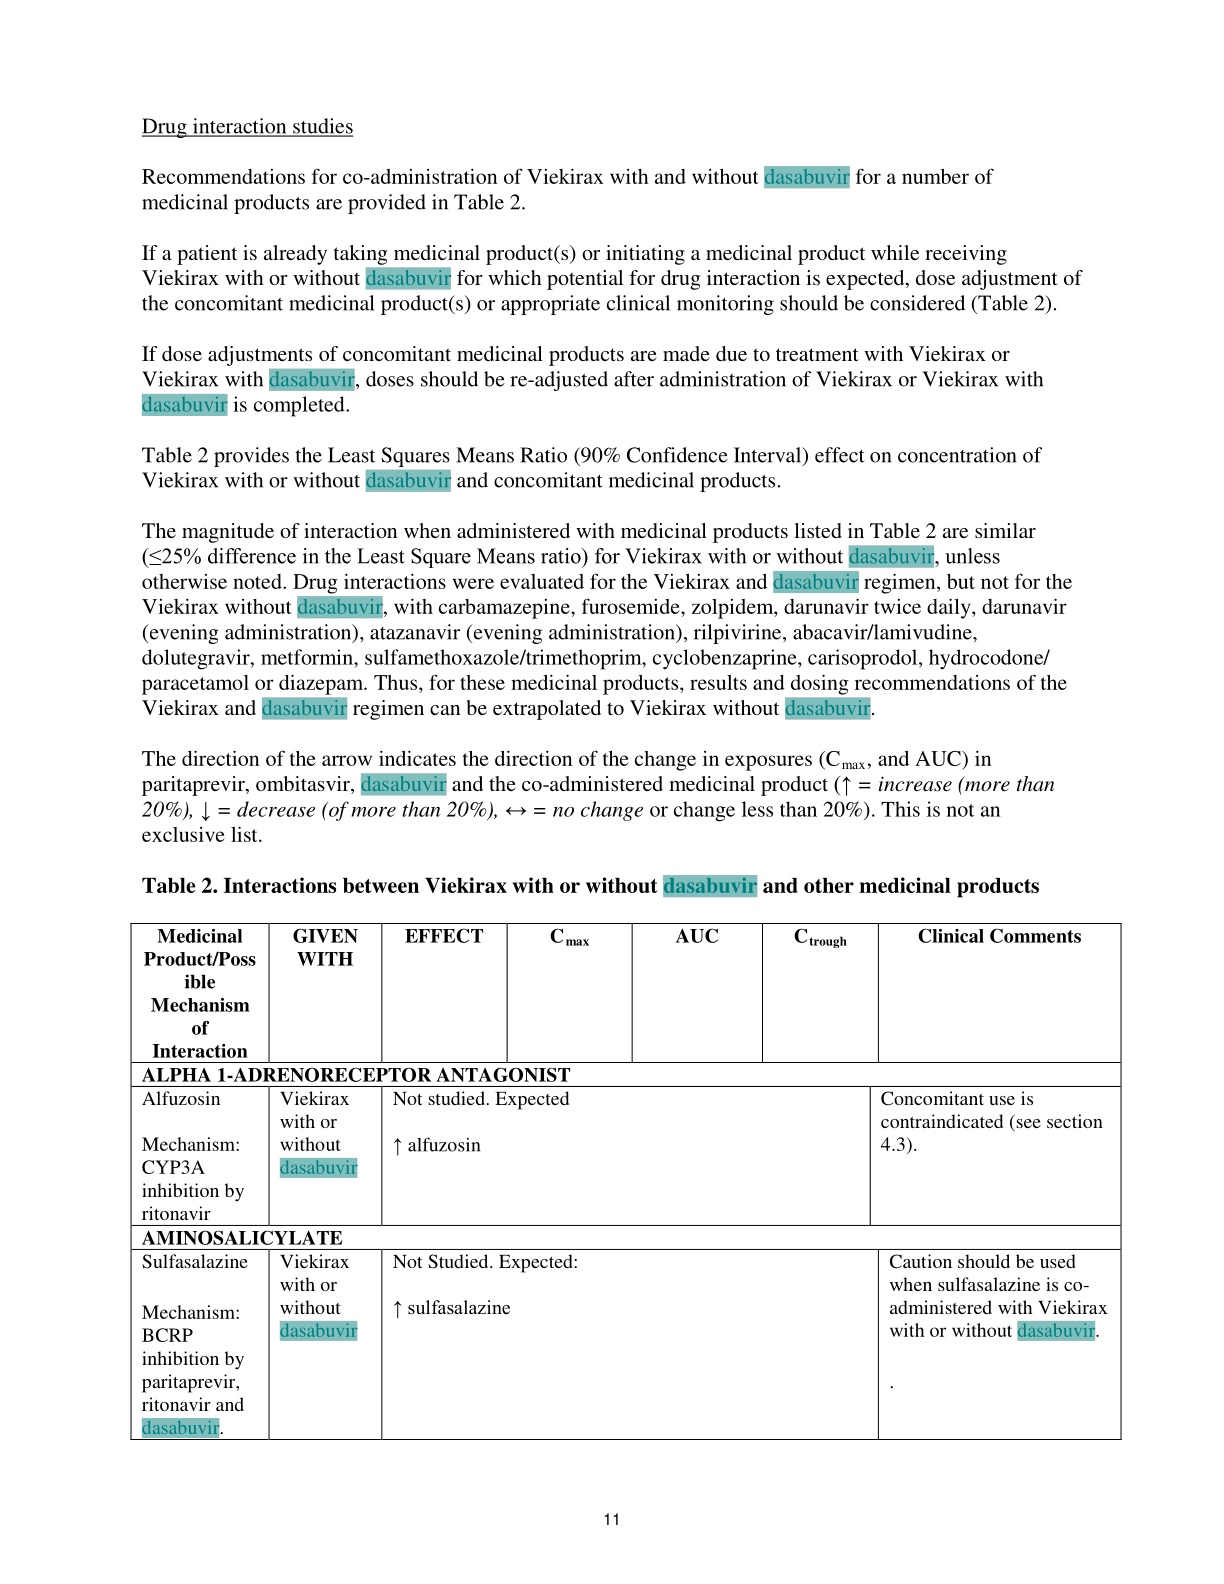merged_cells: (129, 922, 1122, 1441)
